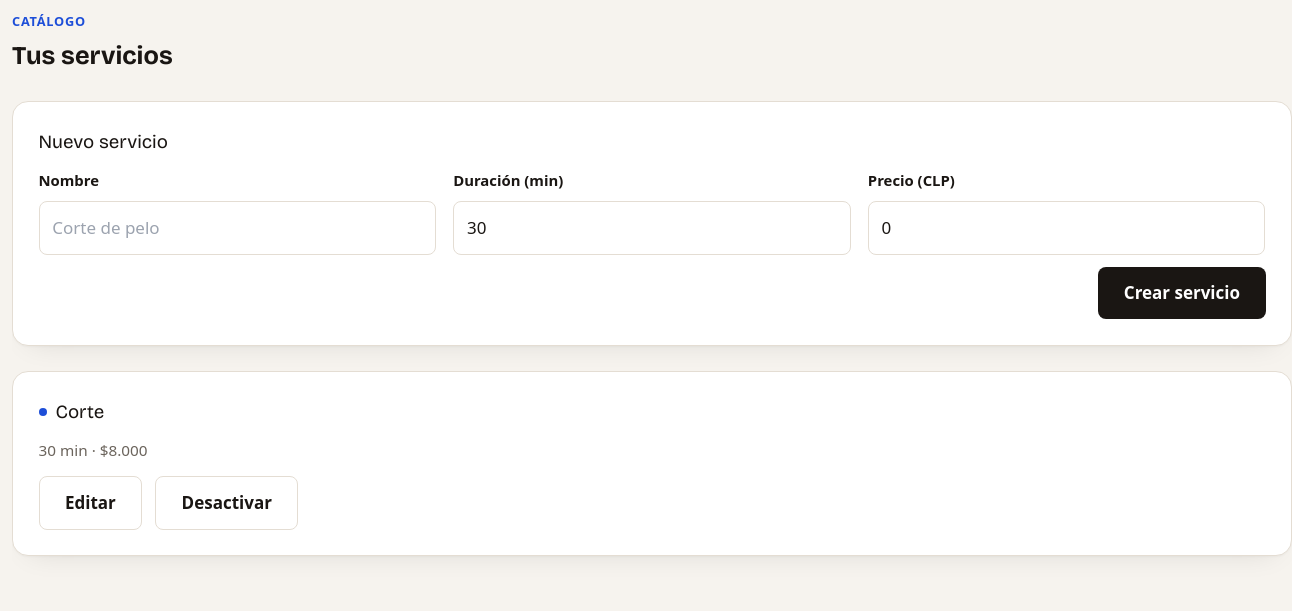
Scenario: ServicesPageComponent › muestra el mensaje de error que devuelve el backend
Type "Barba" into the field named "name" at (237, 228), box [38,201,436,255]
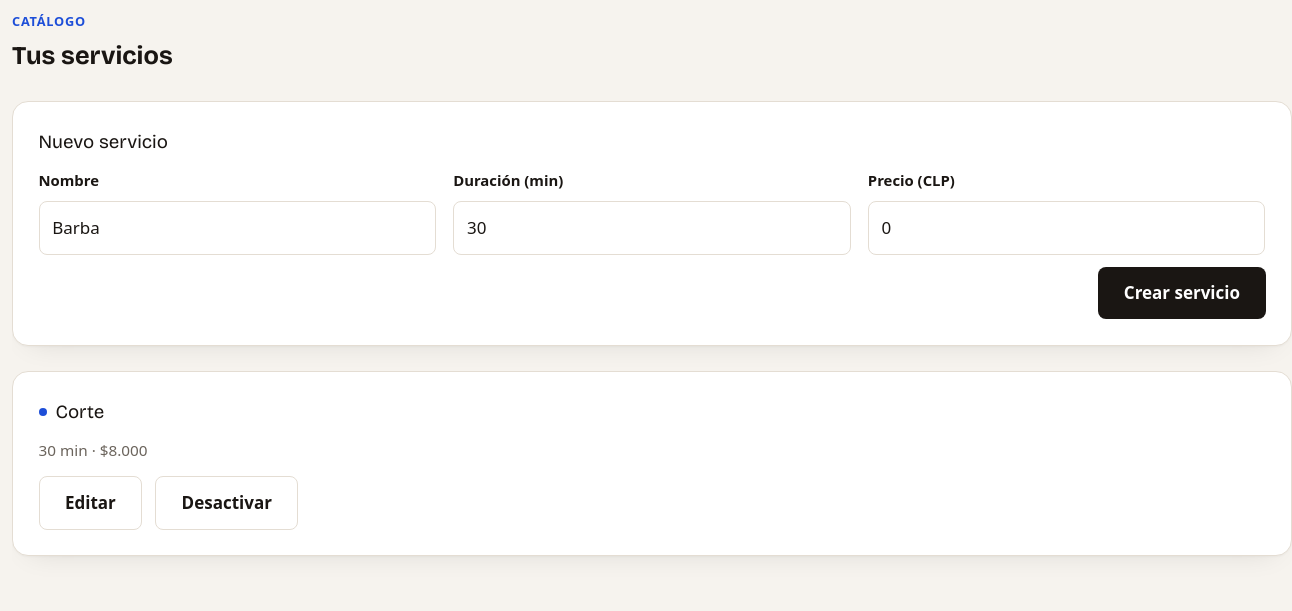
Click the submit button at (1182, 293), box [1098,267,1266,319]
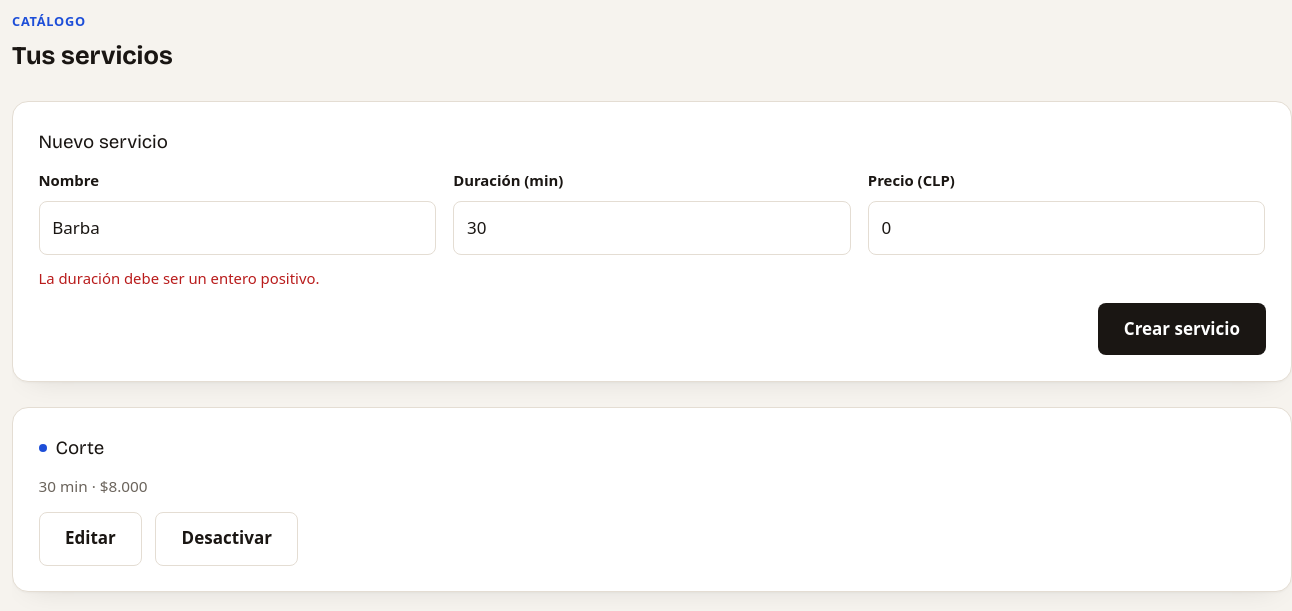
Check: the text "La duración debe ser un entero positivo." is shown, box [38,268,319,288]
